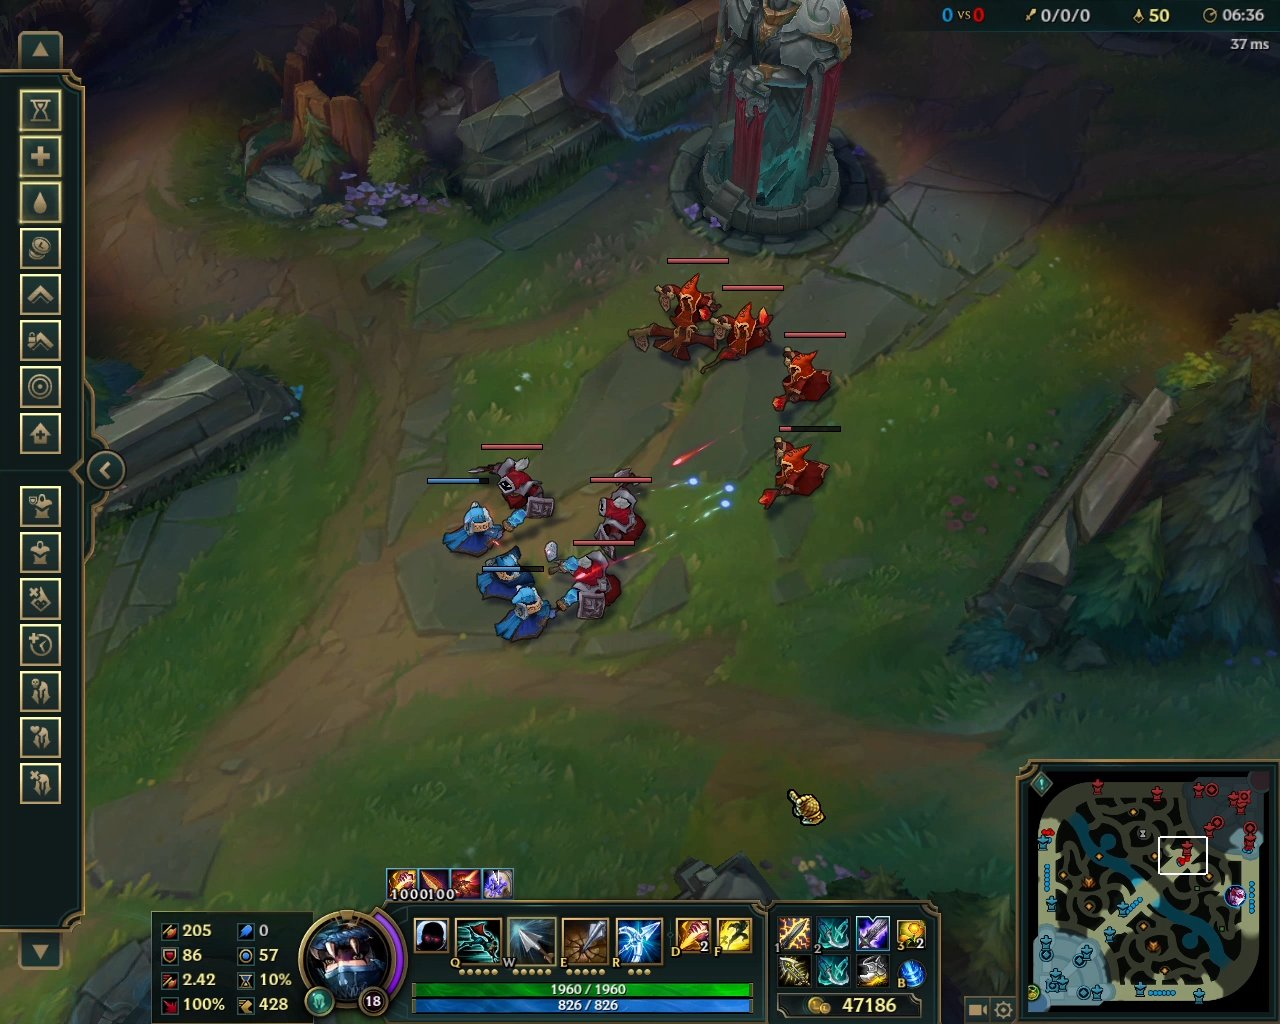EnemyMinion: (469, 440, 558, 526), (755, 426, 841, 513), (551, 539, 638, 621), (706, 283, 787, 368), (584, 467, 655, 561), (769, 333, 845, 412), (653, 258, 729, 331)
Tower: (684, 1, 867, 249)
